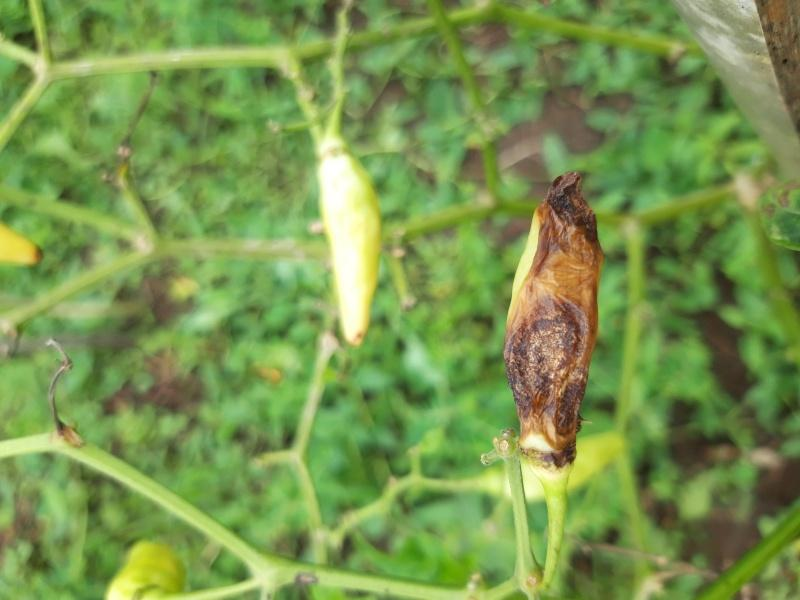antraknosa: (505, 171, 600, 450)
cabai_normal: (317, 154, 380, 344)
